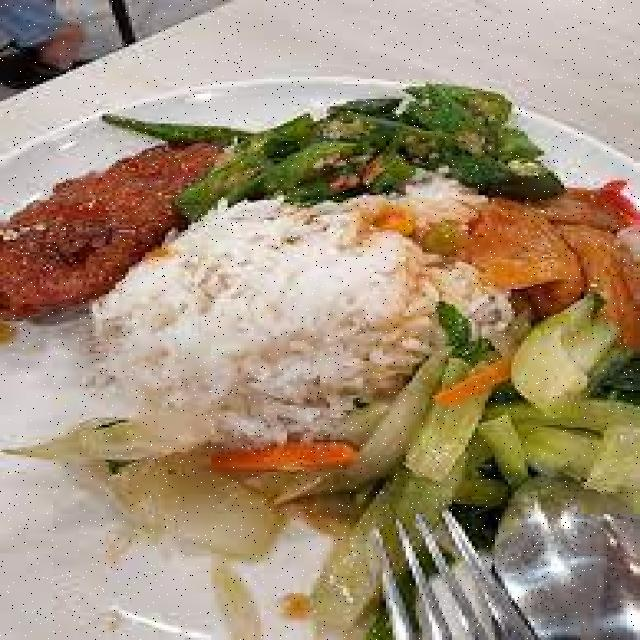Chicken: (0, 143, 218, 314)
Green veg: (307, 294, 637, 628), (102, 84, 558, 217), (109, 84, 558, 217)
Non green veg: (412, 180, 637, 346)
Rice: (92, 180, 511, 450)
